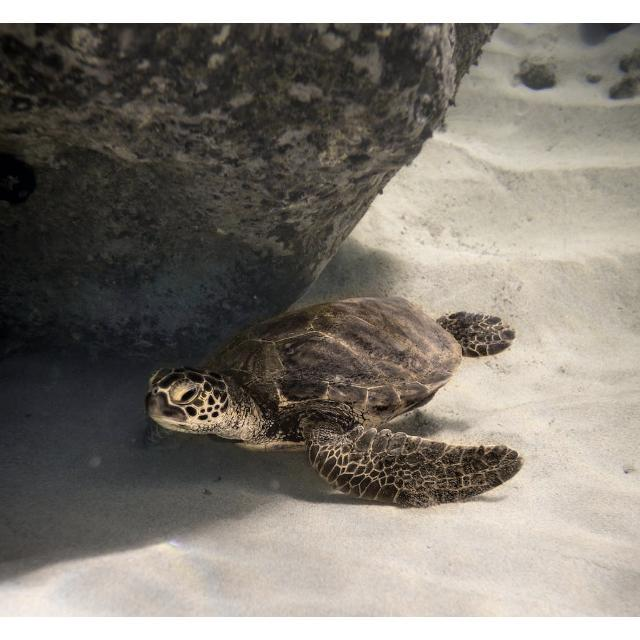turtle: (142, 294, 522, 511)
